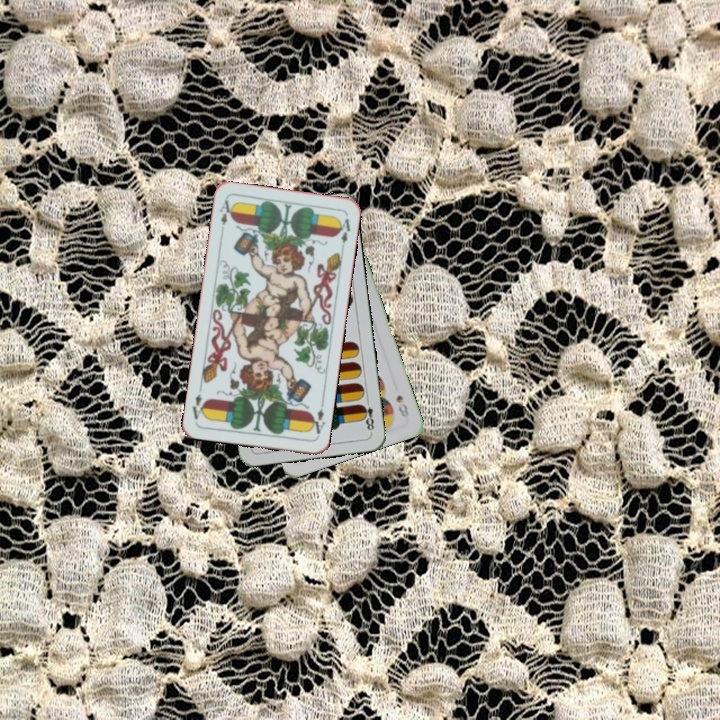E8: (357, 395, 376, 435)
EA: (306, 405, 327, 439), (216, 195, 235, 227)
S8: (392, 391, 411, 420)
